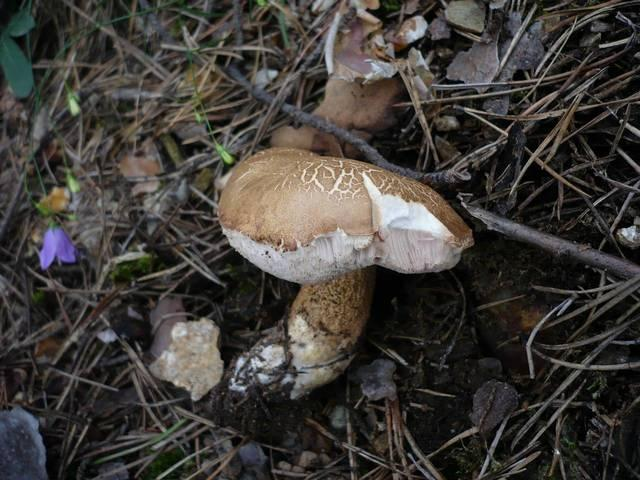Non-edible Mushroom: (215, 145, 475, 402)
